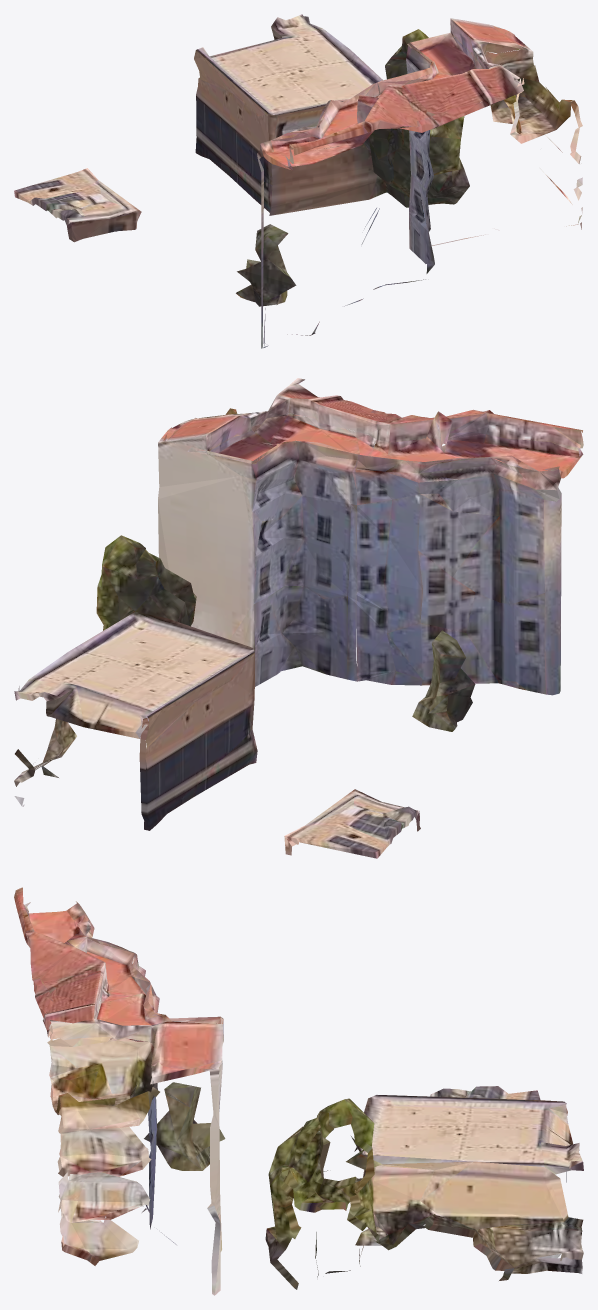
3 renders of one model, top to bottom at view 1: azimuth 30°, elevation 25°; view 2: azimuth 150°, elevation 25°; view 3: azimuth 270°, elevation 25°, orthographic. The views are drawn at different scales.
Parts seen in each view (by area): view 1: Mesh_0; view 2: Mesh_0; view 3: Mesh_0.
Boxes of the visible parts, x1=… form: Mesh_0: x1=14, y1=14, x2=582, y2=348; Mesh_0: x1=14, y1=378, x2=583, y2=858; Mesh_0: x1=14, y1=887, x2=583, y2=1295.
Size of the model in its own units: 33.31 by 20.47 by 41.4.
1 material, 1 textured.
